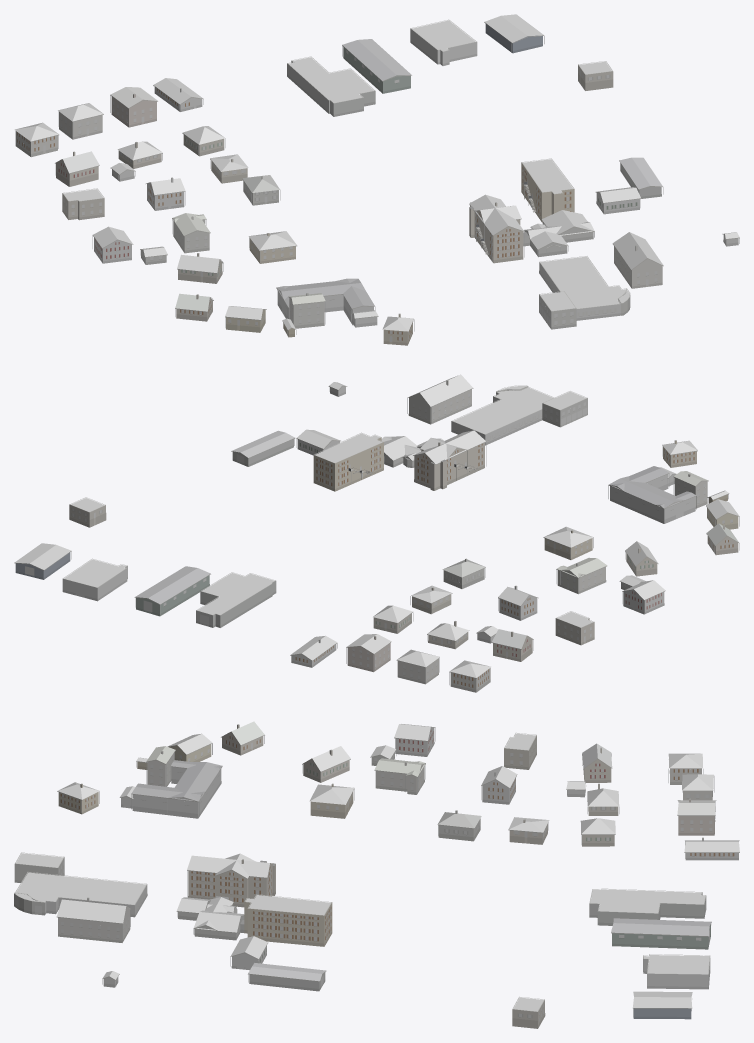
3 renders of one model, top to bottom at view 1: azimuth 30°, elevation 25°; view 2: azimuth 150°, elevation 25°; view 3: azimuth 270°, elevation 25°, orthographic. The views are drawn at different scales.
Visible parts, largest first — view 1: bld; view 2: bld; view 3: bld.
Part boxes in pixels (box(x1,y1,x2,y2)): bld: box(14, 14, 739, 345); bld: box(14, 374, 739, 692); bld: box(14, 721, 739, 1028).
Bounding box in the file's own units: 231 × 16.1 × 244.
